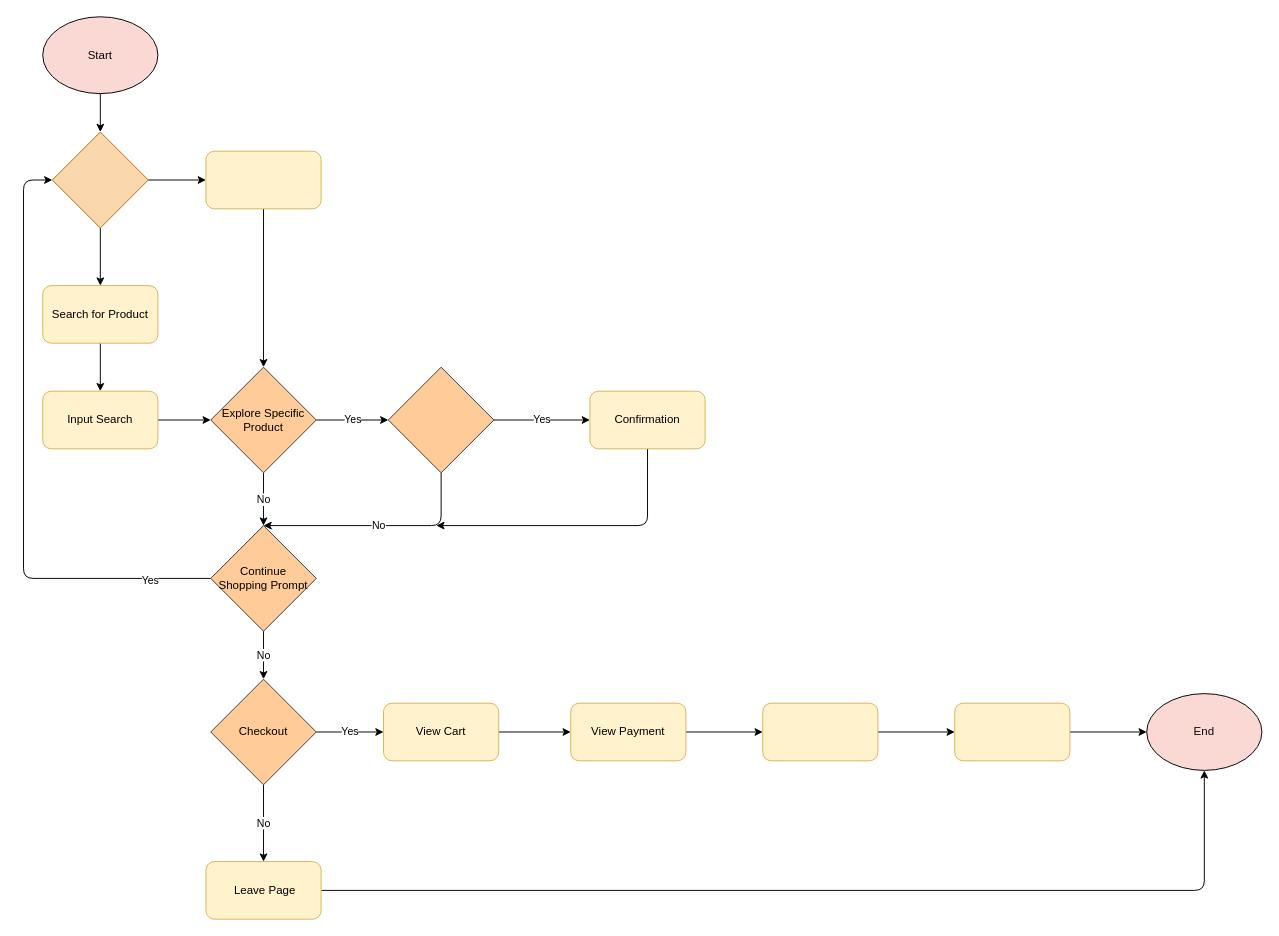
This 1279x936 diagram has some shape labels left out. Here are the shapes that lost their labels. From the top down, the centre of each, then its label:
the point at 99,179: User Enters Website
the point at 263,179: Explore Homepage
the point at 440,419: Add to Cart
the point at 820,731: Input Payment
the point at 1012,731: Order Confirmation and Email
